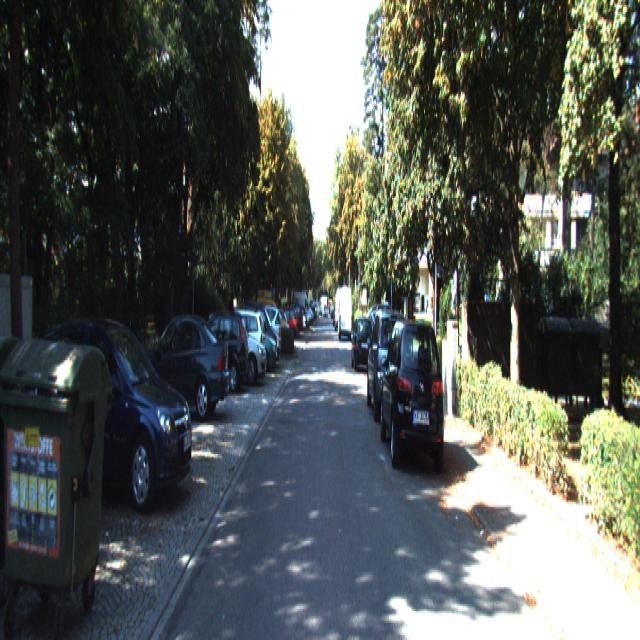Car: (33, 312, 194, 511), (130, 314, 230, 423), (381, 318, 446, 470), (183, 308, 250, 392), (367, 305, 412, 424), (198, 311, 266, 389), (205, 306, 266, 378), (231, 311, 277, 375), (351, 315, 375, 373)
DontCare: (277, 283, 336, 345)
Van: (338, 286, 352, 336)
